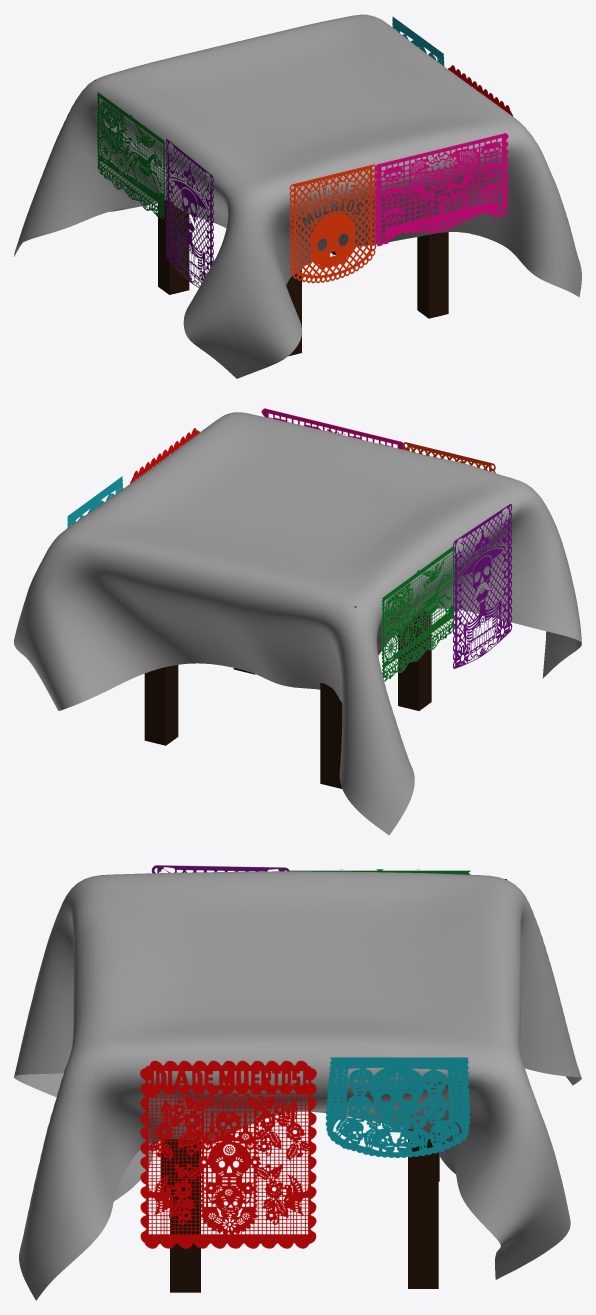
File: mesa.glb
3 views of the same model, one above another, from view 1: azimuth 30°, elevation 25°; view 2: azimuth 150°, elevation 25°; view 3: azimuth 270°, elevation 25° (orthographic). The views are drawn at different scales.
Parts seen in each view (by area): view 1: pasted__pasted__pasted__pasted__pasted__pCube1_mesa_0; view 2: pasted__pasted__pasted__pasted__pasted__pCube1_mesa_0; view 3: pasted__pasted__pasted__pasted__pasted__pCube1_mesa_0.
Boxes of the visible parts, x1=… form: pasted__pasted__pasted__pasted__pasted__pCube1_mesa_0: x1=14, y1=14, x2=581, y2=378; pasted__pasted__pasted__pasted__pasted__pCube1_mesa_0: x1=14, y1=408, x2=581, y2=835; pasted__pasted__pasted__pasted__pasted__pCube1_mesa_0: x1=14, y1=865, x2=581, y2=1300.
Bounding box in the file's own units: 0.9184 × 0.4723 × 0.8763.
Materials: 8 (6 with a texture image).
